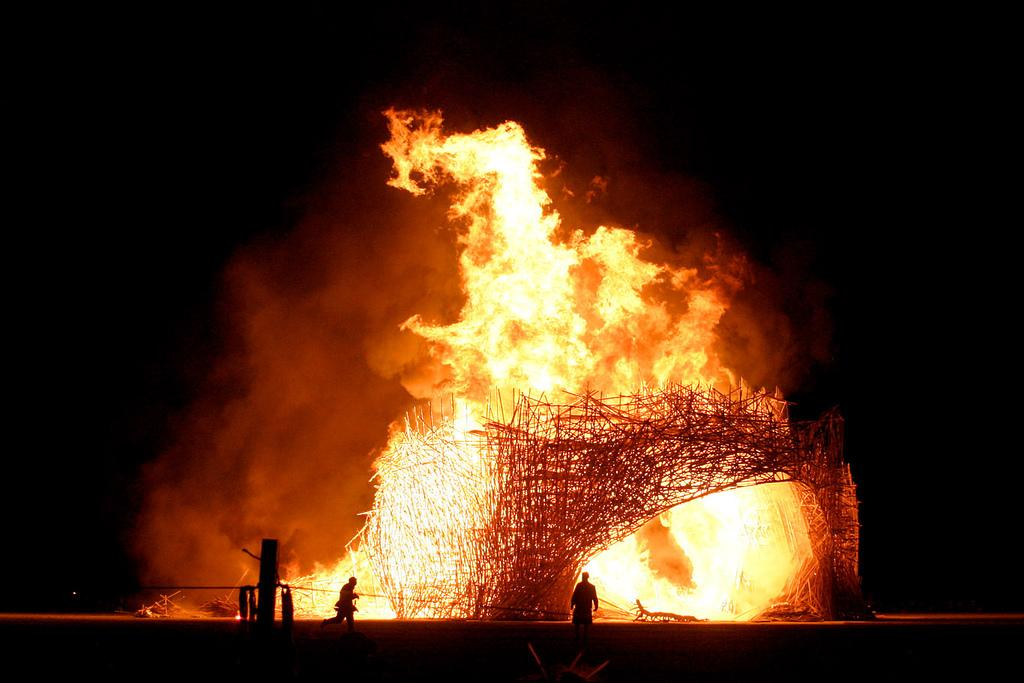fire: (380, 453, 468, 582), (502, 187, 552, 310), (700, 502, 767, 593), (455, 137, 532, 182)
